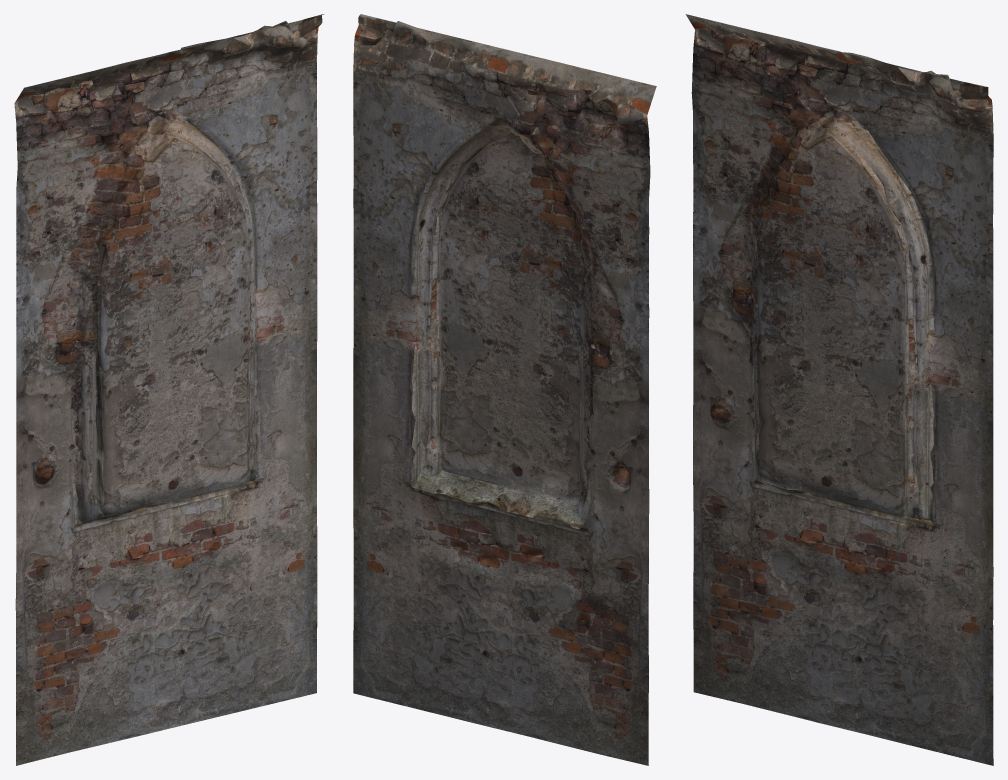
The model's file is SM_ChapelWall_01_01_OneSide.fbx.
3 views of the same model, side by side, from view 1: azimuth 30°, elevation 25°; view 2: azimuth 150°, elevation 25°; view 3: azimuth 330°, elevation 25° (orthographic).
Visible parts, largest first — view 1: sm_ChapelWall_01_01_OneSide_LOD0; view 2: sm_ChapelWall_01_01_OneSide_LOD0; view 3: sm_ChapelWall_01_01_OneSide_LOD0.
Boxes of the visible parts, x1,y1,x2,y2 form: sm_ChapelWall_01_01_OneSide_LOD0: (14,14,324,765); sm_ChapelWall_01_01_OneSide_LOD0: (353,14,656,765); sm_ChapelWall_01_01_OneSide_LOD0: (685,14,993,765).
Size of the model in its own units: 26.78 by 250 by 546.
